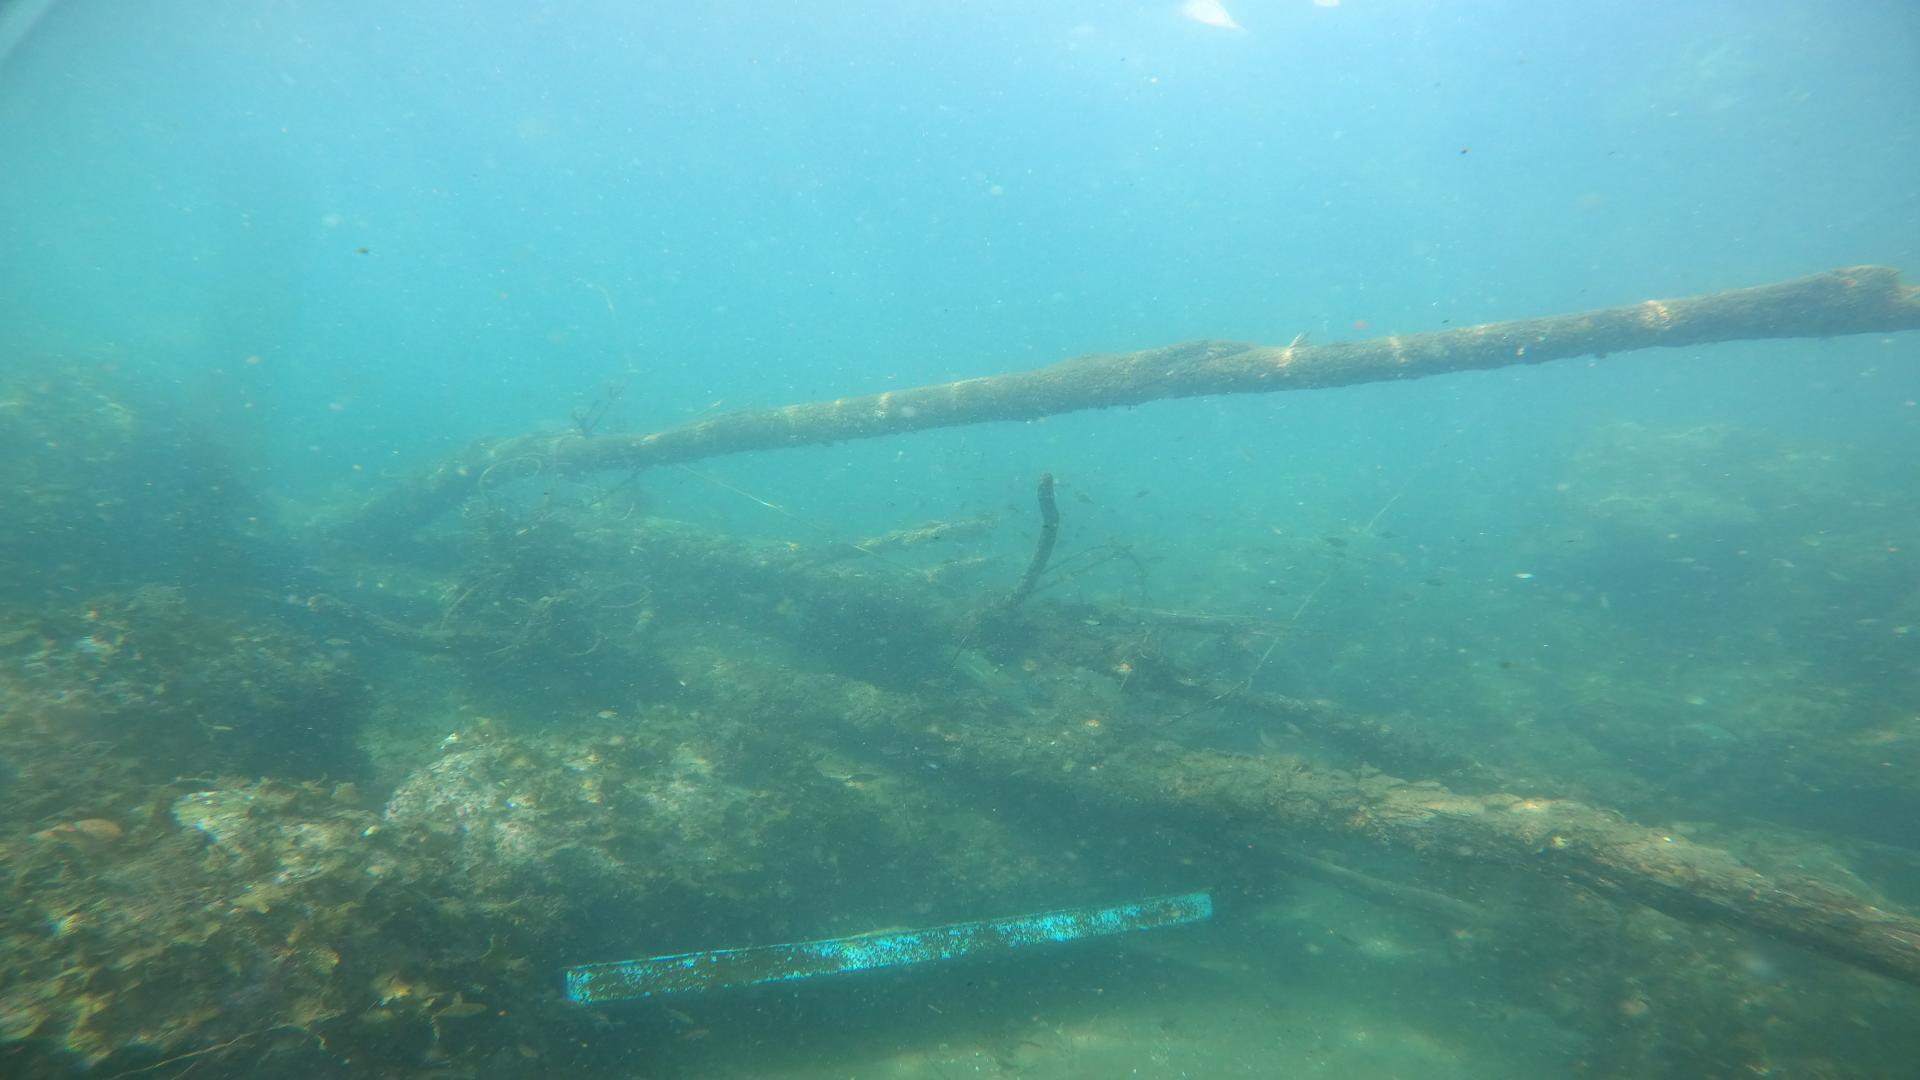bundle of ropes: (433, 381, 653, 659)
wood: (301, 272, 1920, 980)
